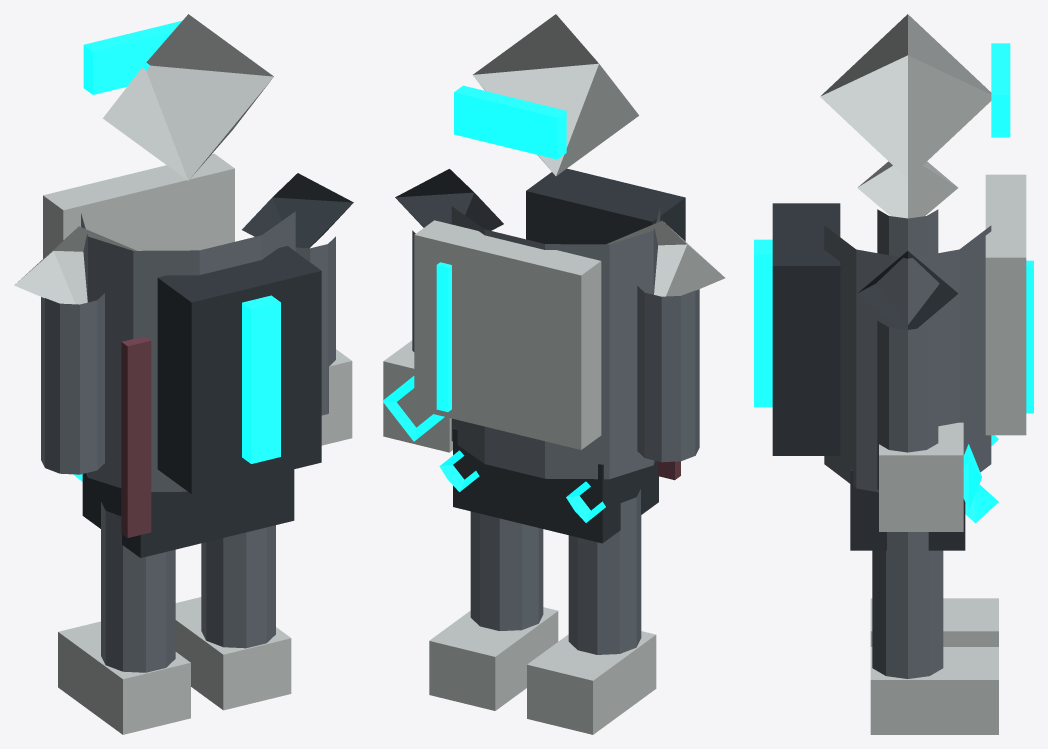
The model's file is wayfarer-mara-m0.glb.
The picture shows the model from 3 angles, left to right: view 1: azimuth 30°, elevation 25°; view 2: azimuth 150°, elevation 25°; view 3: azimuth 270°, elevation 25°; orthographic projection. The views are drawn at different scales.
Visible parts, largest first — view 1: Mara_FieldPack, Mara_Helmet, Mara_Torso, Mara_ChestPlate, Mara_Arm_L, Mara_Pelvis, Mara_Leg_L, Mara_Boot_L, Mara_Leg_R, Mara_Boot_R, Mara_ResonanceSpine, Mara_FabricTab (+5 smaller); view 2: Mara_ChestPlate, Mara_Torso, Mara_Helmet, Mara_Arm_L, Mara_Pelvis, Mara_Boot_L, Mara_Leg_L, Mara_FieldPack, Mara_Boot_R, Mara_Leg_R, Mara_Visor, Mara_Shoulder_R (+6 smaller); view 3: Mara_Torso, Mara_FieldPack, Mara_Helmet, Mara_ChestPlate, Mara_Leg_R, Mara_Boot_R, Mara_Arm_R, Mara_Gauntlet, Mara_Shoulder_L, Mara_ResonanceSpine, Mara_Boot_L, Mara_Pelvis (+6 smaller).
Part boxes in pixels (bbox=[...]): Mara_FieldPack: bbox=[157, 246, 321, 494]; Mara_Helmet: bbox=[103, 14, 273, 180]; Mara_Torso: bbox=[81, 211, 295, 491]; Mara_ChestPlate: bbox=[43, 153, 234, 258]; Mara_Arm_L: bbox=[41, 293, 104, 474]; Mara_Pelvis: bbox=[82, 469, 294, 557]; Mara_Leg_L: bbox=[101, 502, 175, 672]; Mara_Boot_L: bbox=[58, 621, 190, 734]; Mara_Leg_R: bbox=[201, 525, 275, 648]; Mara_Boot_R: bbox=[175, 597, 291, 710]; Mara_ResonanceSpine: bbox=[242, 295, 280, 463]; Mara_FabricTab: bbox=[121, 337, 151, 537]; Mara_ChestPlate: bbox=[414, 220, 601, 449]; Mara_Torso: bbox=[451, 206, 660, 479]; Mara_Helmet: bbox=[473, 14, 638, 176]; Mara_Arm_L: bbox=[637, 286, 699, 462]; Mara_Pelvis: bbox=[453, 428, 658, 543]; Mara_Boot_L: bbox=[527, 631, 656, 734]; Mara_Leg_L: bbox=[568, 489, 641, 654]; Mara_FieldPack: bbox=[526, 168, 685, 244]; Mara_Boot_R: bbox=[429, 607, 558, 710]; Mara_Leg_R: bbox=[470, 511, 543, 630]; Mara_Visor: bbox=[454, 85, 566, 159]; Mara_Shoulder_R: bbox=[395, 169, 503, 230]; Mara_Torso: bbox=[824, 225, 991, 492]; Mara_FieldPack: bbox=[772, 203, 840, 455]; Mara_Helmet: bbox=[820, 14, 991, 178]; Mara_ChestPlate: bbox=[985, 174, 1026, 435]; Mara_Leg_R: bbox=[872, 532, 943, 678]; Mara_Boot_R: bbox=[870, 647, 998, 734]; Mara_Arm_R: bbox=[877, 321, 938, 489]; Mara_Gauntlet: bbox=[879, 422, 963, 531]; Mara_Shoulder_L: bbox=[857, 161, 958, 218]; Mara_ResonanceSpine: bbox=[754, 239, 772, 407]; Mara_Boot_L: bbox=[870, 598, 998, 646]; Mara_Pelvis: bbox=[850, 469, 965, 550].
Size of the model in its own units: 1.15 by 2.22 by 0.828.
